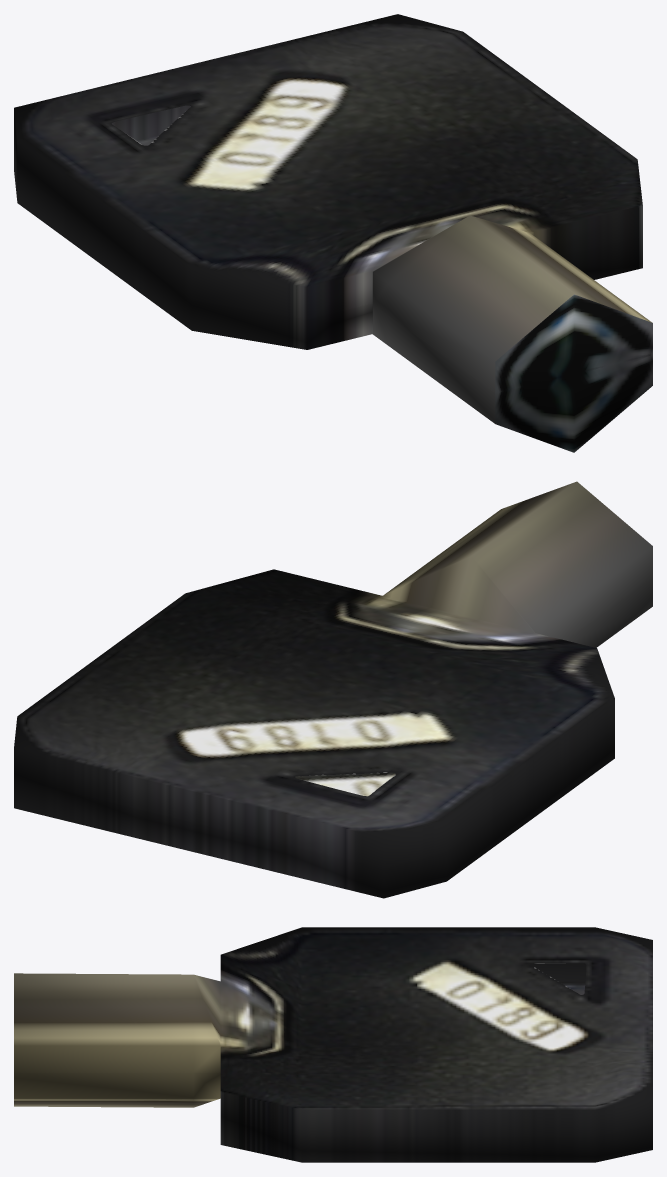
File: key_square.fbx
3 renders of one model, top to bottom at view 1: azimuth 30°, elevation 25°; view 2: azimuth 150°, elevation 25°; view 3: azimuth 270°, elevation 25°, orthographic. The views are drawn at different scales.
Parts seen in each view (by area): view 1: key_square; view 2: key_square; view 3: key_square.
Part boxes in pixels (x1,y1,x2,y2): key_square: (14, 14, 652, 452); key_square: (14, 481, 652, 898); key_square: (14, 927, 652, 1162).
Size of the model in its own units: 9.34 by 3.17 by 13.81.
Materials: 1 (1 with a texture image).
